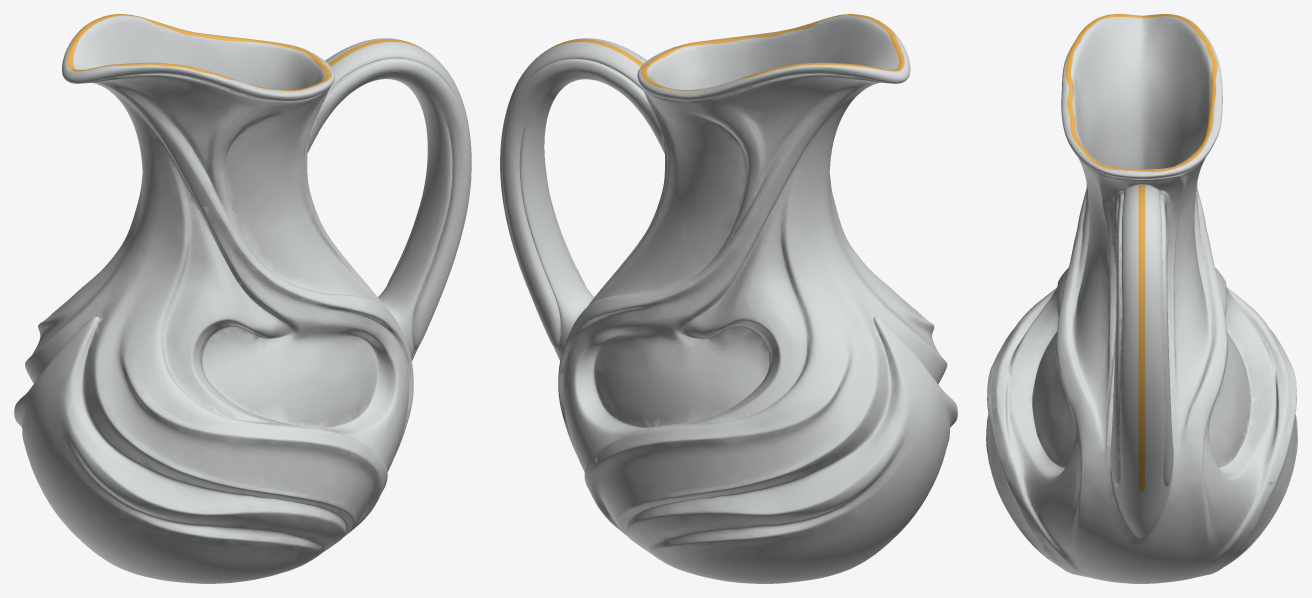
Rendered from g14-tidal-wave-carafe.glb.
3 renders of one model, left to right at view 1: azimuth 30°, elevation 25°; view 2: azimuth 150°, elevation 25°; view 3: azimuth 270°, elevation 25°, orthographic. The views are drawn at different scales.
Parts seen in each view (by area): view 1: Glassware_G14_IntactMesh, Glassware_G14_Shard_007, Glassware_G14_Shard_018, Glassware_G14_Shard_000, Glassware_G14_Shard_014, Glassware_G14_Shard_017, Glassware_G14_Shard_008, Glassware_G14_Shard_015, Glassware_G14_Shard_020, Glassware_G14_Shard_011, Glassware_G14_Shard_009, Glassware_G14_Shard_019 (+5 smaller); view 2: Glassware_G14_IntactMesh, Glassware_G14_Shard_006, Glassware_G14_Shard_017, Glassware_G14_Shard_005, Glassware_G14_Shard_014, Glassware_G14_Shard_020, Glassware_G14_Shard_002, Glassware_G14_Shard_016, Glassware_G14_Shard_004, Glassware_G14_Shard_013, Glassware_G14_Shard_011, Glassware_G14_Shard_003 (+4 smaller); view 3: Glassware_G14_IntactMesh, Glassware_G14_Shard_017, Glassware_G14_Shard_004, Glassware_G14_Shard_001, Glassware_G14_Shard_020, Glassware_G14_Shard_018, Glassware_G14_Shard_011, Glassware_G14_Shard_002, Glassware_G14_Shard_009, Glassware_G14_Shard_008, Glassware_G14_Shard_005, Glassware_G14_Shard_007 (+8 smaller).
Boxes of the visible parts, x1,y1,x2,y2 form: Glassware_G14_IntactMesh: [15, 14, 471, 583]; Glassware_G14_Shard_007: [52, 332, 291, 559]; Glassware_G14_Shard_018: [118, 62, 298, 295]; Glassware_G14_Shard_000: [147, 378, 369, 583]; Glassware_G14_Shard_014: [39, 249, 203, 432]; Glassware_G14_Shard_017: [62, 14, 177, 267]; Glassware_G14_Shard_008: [285, 317, 403, 480]; Glassware_G14_Shard_015: [197, 255, 318, 374]; Glassware_G14_Shard_020: [263, 38, 467, 139]; Glassware_G14_Shard_011: [398, 124, 471, 296]; Glassware_G14_Shard_009: [296, 212, 398, 327]; Glassware_G14_Shard_019: [281, 63, 351, 236]; Glassware_G14_IntactMesh: [500, 14, 957, 583]; Glassware_G14_Shard_006: [693, 348, 940, 545]; Glassware_G14_Shard_017: [693, 34, 910, 312]; Glassware_G14_Shard_005: [607, 312, 712, 499]; Glassware_G14_Shard_014: [810, 220, 943, 416]; Glassware_G14_Shard_020: [503, 38, 677, 259]; Glassware_G14_Shard_002: [572, 394, 710, 576]; Glassware_G14_Shard_016: [643, 77, 744, 281]; Glassware_G14_Shard_004: [525, 273, 621, 448]; Glassware_G14_Shard_013: [687, 275, 830, 372]; Glassware_G14_Shard_011: [500, 128, 579, 283]; Glassware_G14_Shard_003: [708, 477, 934, 583]; Glassware_G14_IntactMesh: [986, 14, 1297, 583]; Glassware_G14_Shard_017: [1103, 14, 1221, 297]; Glassware_G14_Shard_004: [1083, 367, 1234, 544]; Glassware_G14_Shard_001: [1017, 438, 1192, 583]; Glassware_G14_Shard_020: [1116, 159, 1194, 330]; Glassware_G14_Shard_018: [1061, 16, 1118, 293]; Glassware_G14_Shard_011: [1111, 316, 1172, 454]; Glassware_G14_Shard_002: [1162, 439, 1296, 582]; Glassware_G14_Shard_009: [1056, 286, 1116, 429]; Glassware_G14_Shard_008: [990, 347, 1084, 502]; Glassware_G14_Shard_005: [1221, 322, 1297, 463]; Glassware_G14_Shard_007: [987, 286, 1058, 389].
Bounding box in the file's own units: 0.3872 × 0.45 × 0.2676.
